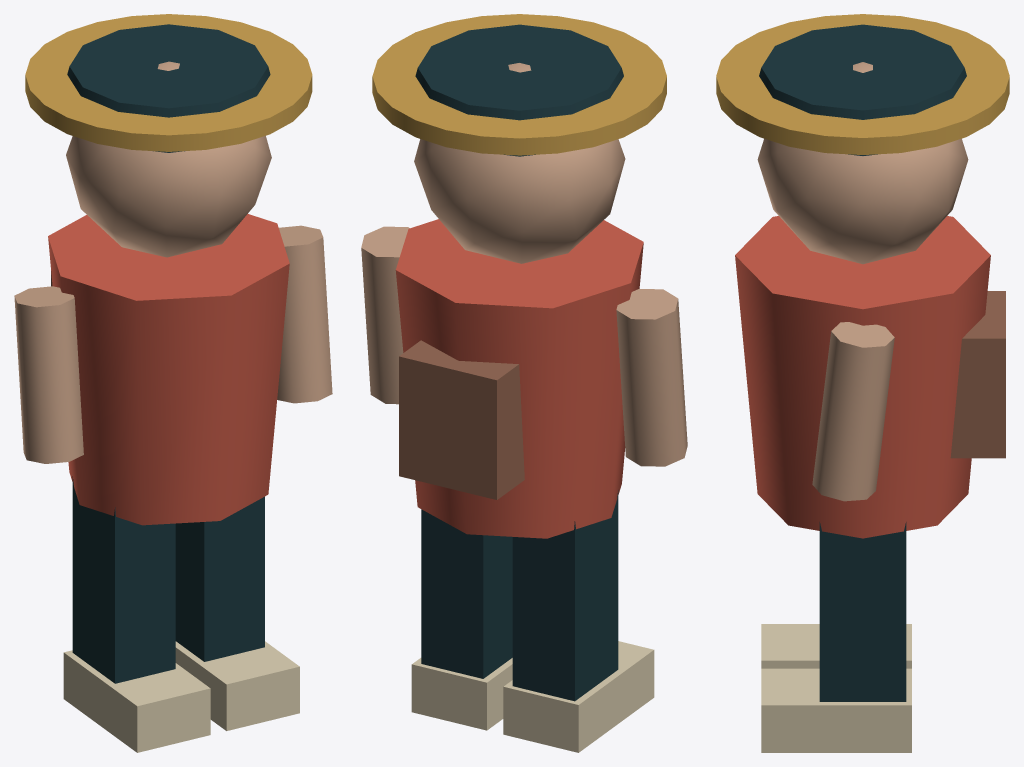
The model's file is guest_a.glb.
3 views of the same model, side by side, from view 1: azimuth 30°, elevation 25°; view 2: azimuth 150°, elevation 25°; view 3: azimuth 270°, elevation 25° (orthographic). The views are drawn at different scales.
Parts seen in each view (by area): view 1: guest_a; view 2: guest_a; view 3: guest_a.
Boxes of the visible parts, x1=… form: guest_a: x1=14, y1=14, x2=332, y2=752; guest_a: x1=361, y1=14, x2=687, y2=752; guest_a: x1=716, y1=14, x2=1009, y2=752.
Bounding box in the file's own units: 0.95 × 1.9 × 0.78.
